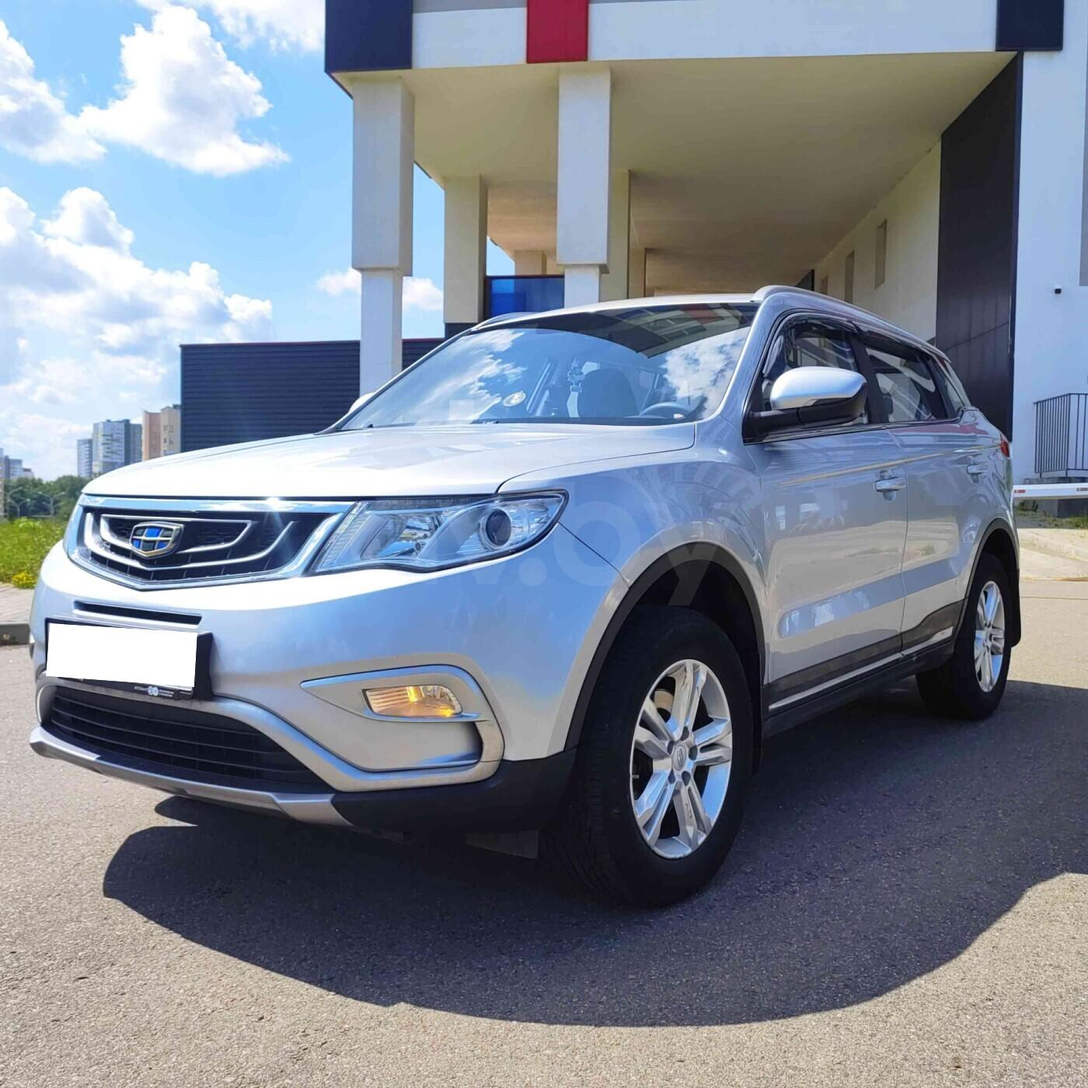Atlas_2016-2023: (25, 283, 1024, 919)
